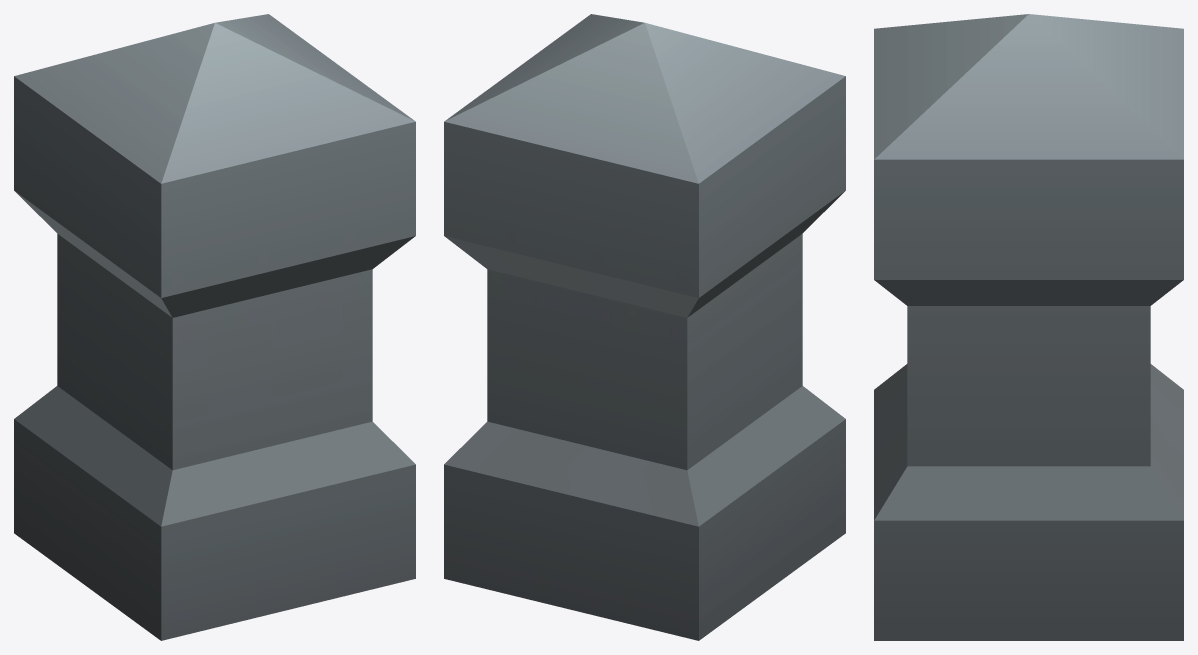
Rendered from column-gltf.glb.
3 views of the same model, side by side, from view 1: azimuth 30°, elevation 25°; view 2: azimuth 150°, elevation 25°; view 3: azimuth 270°, elevation 25° (orthographic). The views are drawn at different scales.
Parts seen in each view (by area): view 1: column; view 2: column; view 3: column.
Part boxes in pixels (left/top/right/bottom): column: left=14, top=14, right=415, bottom=640; column: left=444, top=14, right=845, bottom=640; column: left=874, top=14, right=1183, bottom=640.
Bounding box in the file's own units: 0.7001 × 1.4 × 0.7001.
1 material, 1 textured.
